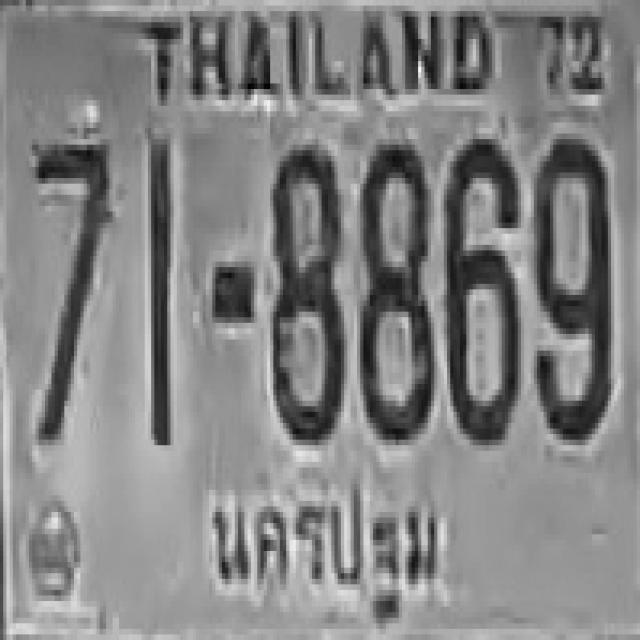1: (146, 134, 172, 445)
6: (444, 133, 518, 440)
7: (31, 136, 108, 442)
8: (270, 139, 344, 440), (358, 139, 432, 440)
9: (530, 134, 608, 434)
NakhonPathom: (202, 459, 459, 621)
